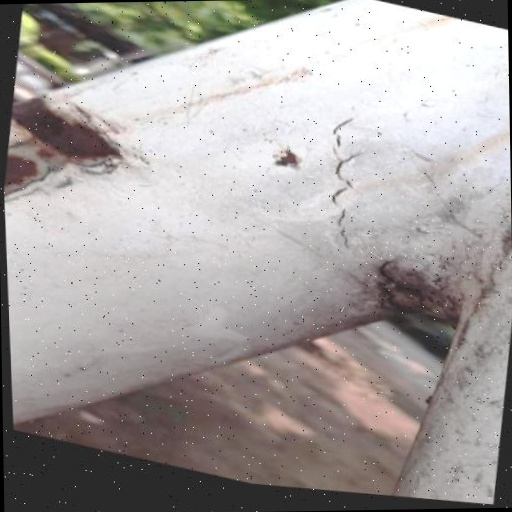crack: (313, 100, 380, 262)
